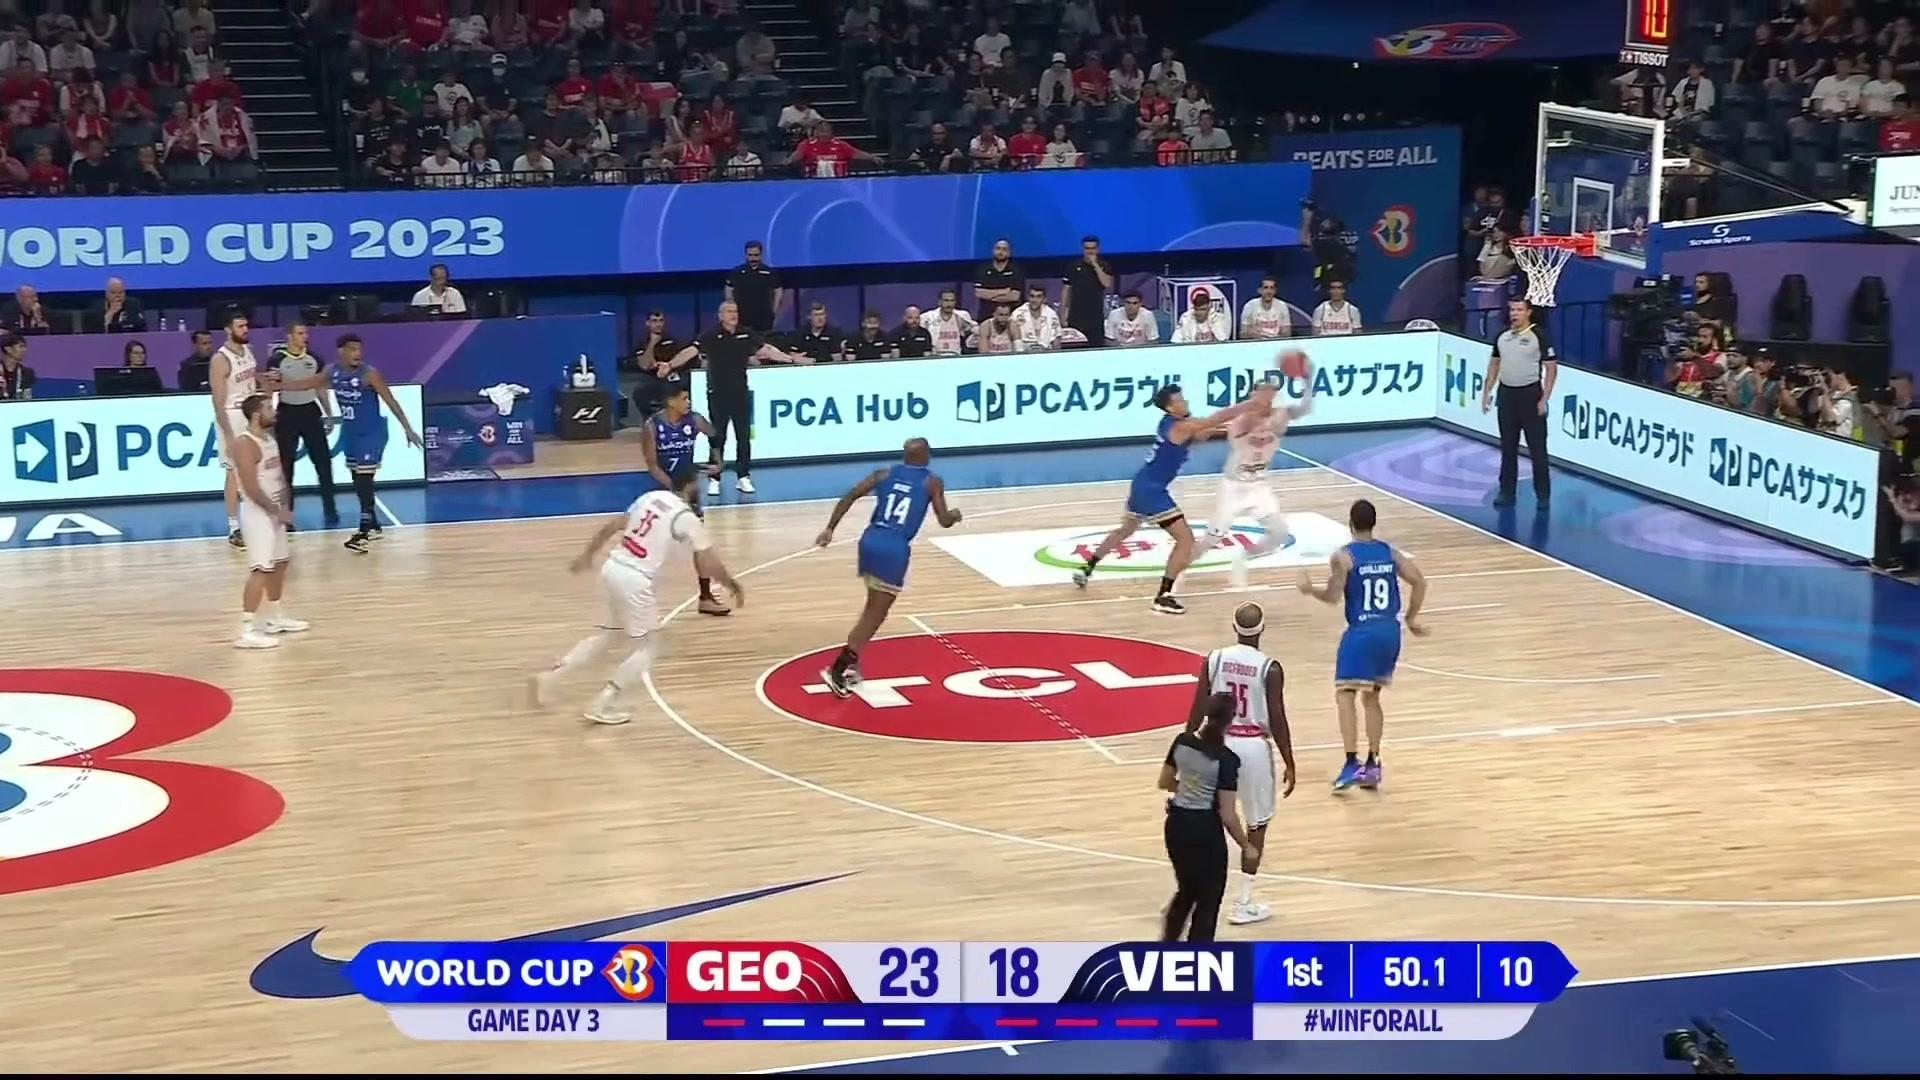foul: (1095, 360, 1294, 585)
